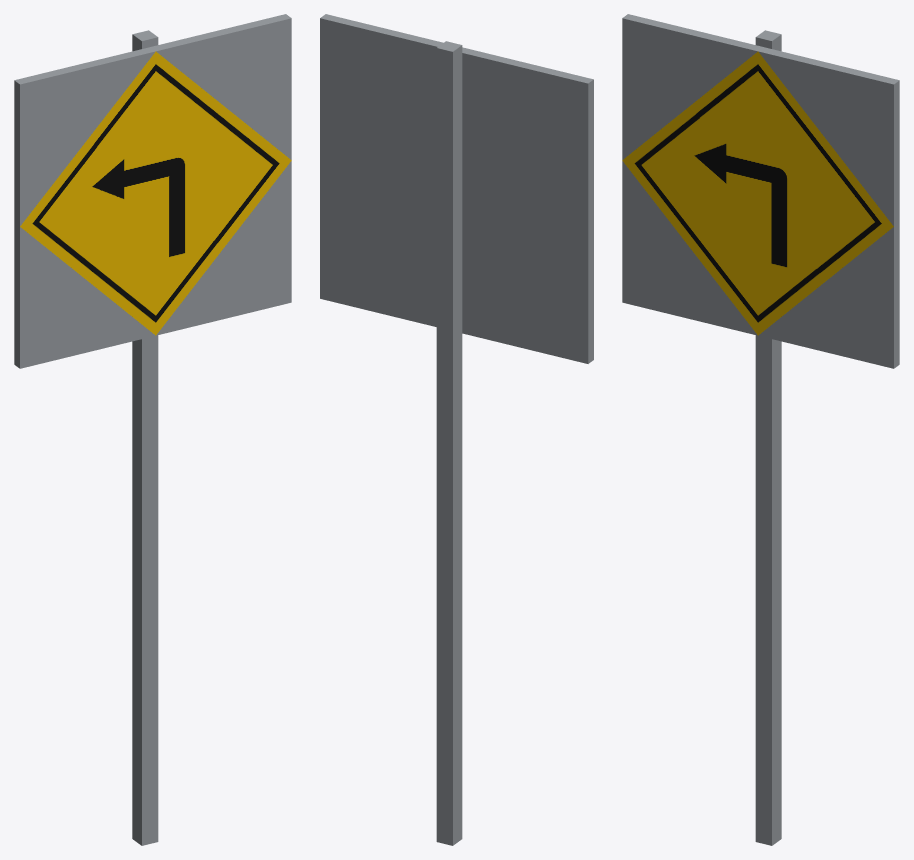
The model's file is us_warn_turn_l.dae.
3 renders of one model, left to right at view 1: azimuth 30°, elevation 25°; view 2: azimuth 150°, elevation 25°; view 3: azimuth 330°, elevation 25°, orthographic.
Visible parts, largest first — view 1: sign4, Colmesh-1; view 2: Colmesh-1, sign4; view 3: sign4, Colmesh-1.
Boxes of the visible parts, box(x1,y1,x2,y2) form: sign4: box(20, 30, 291, 845); Colmesh-1: box(14, 14, 291, 368); Colmesh-1: box(320, 14, 593, 363); sign4: box(436, 41, 462, 845); sign4: box(622, 30, 893, 845); Colmesh-1: box(622, 14, 899, 368).
Size of the model in its own units: 1.08 by 0.105 by 3.05.
Materials: 2 (1 with a texture image).
